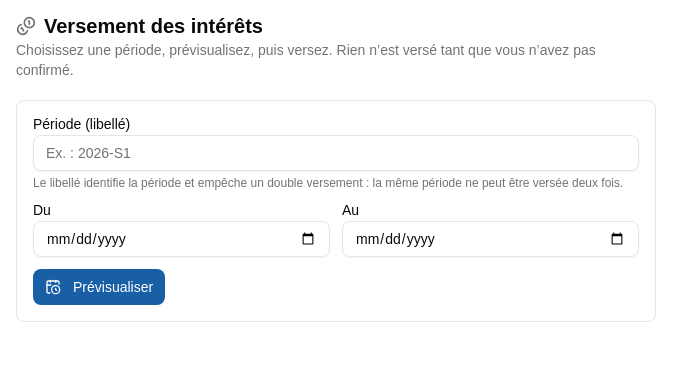
it: PageVersementInterets › champs incomplets : le clic n’est pas silencieux, on réclame la saisie
// On clique SANS remplir : le bouton reste actif, mais explique ce qui manque.
Click the button "Prévisualiser": (99, 287) x1=33 y1=269 x2=165 y2=305
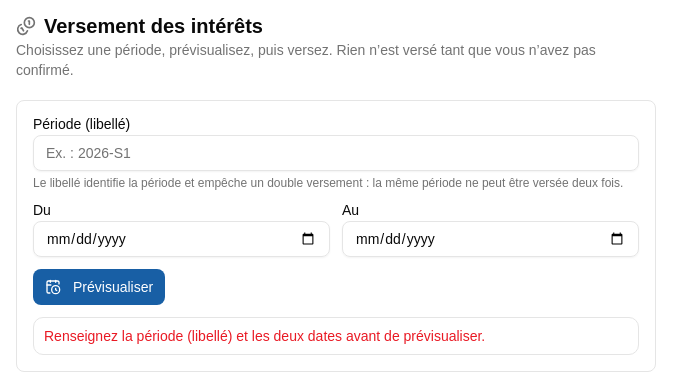
Result: the text "Renseignez la période" is shown at x1=44 y1=328 x2=485 y2=344
